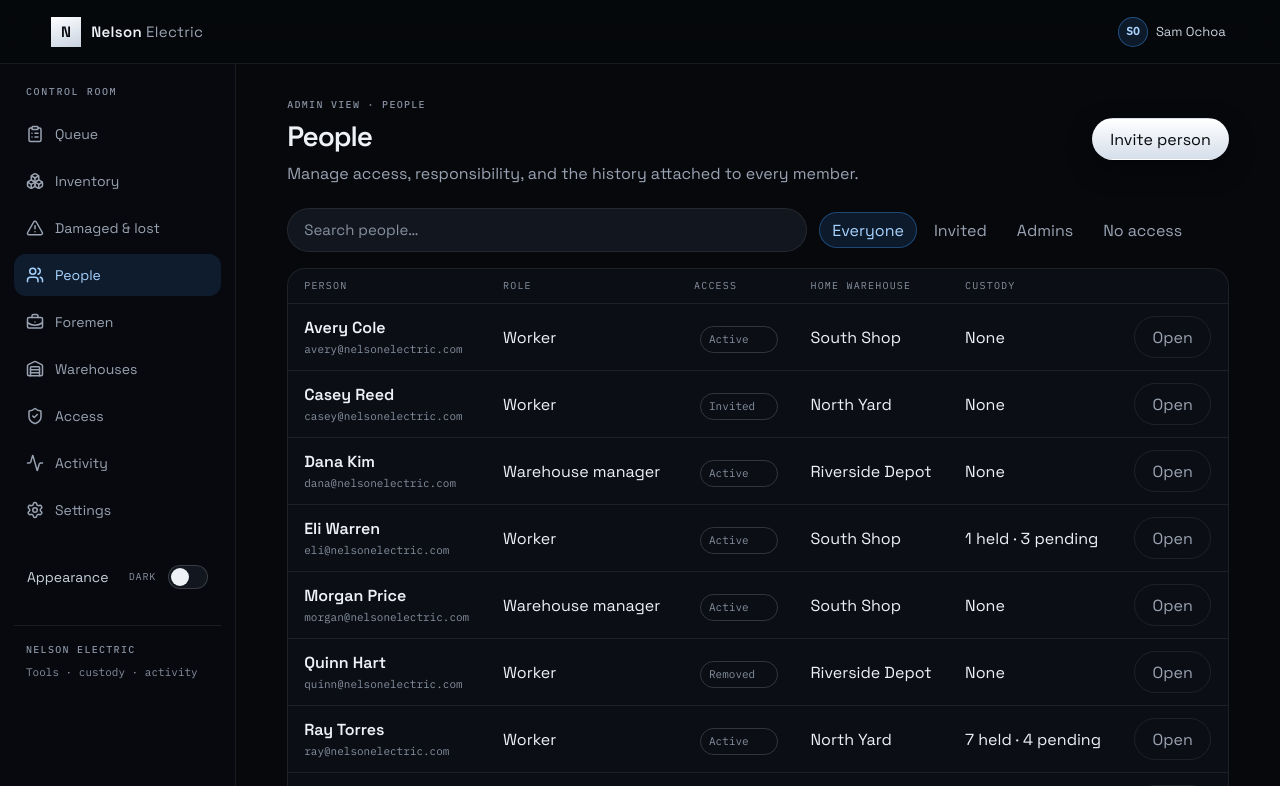
Scenario: admin command safety › preserves a selected role and error after a rejected role command
Click the link "Casey Reed". click: click(349, 395)
box: left=304, top=384, right=394, bottom=405
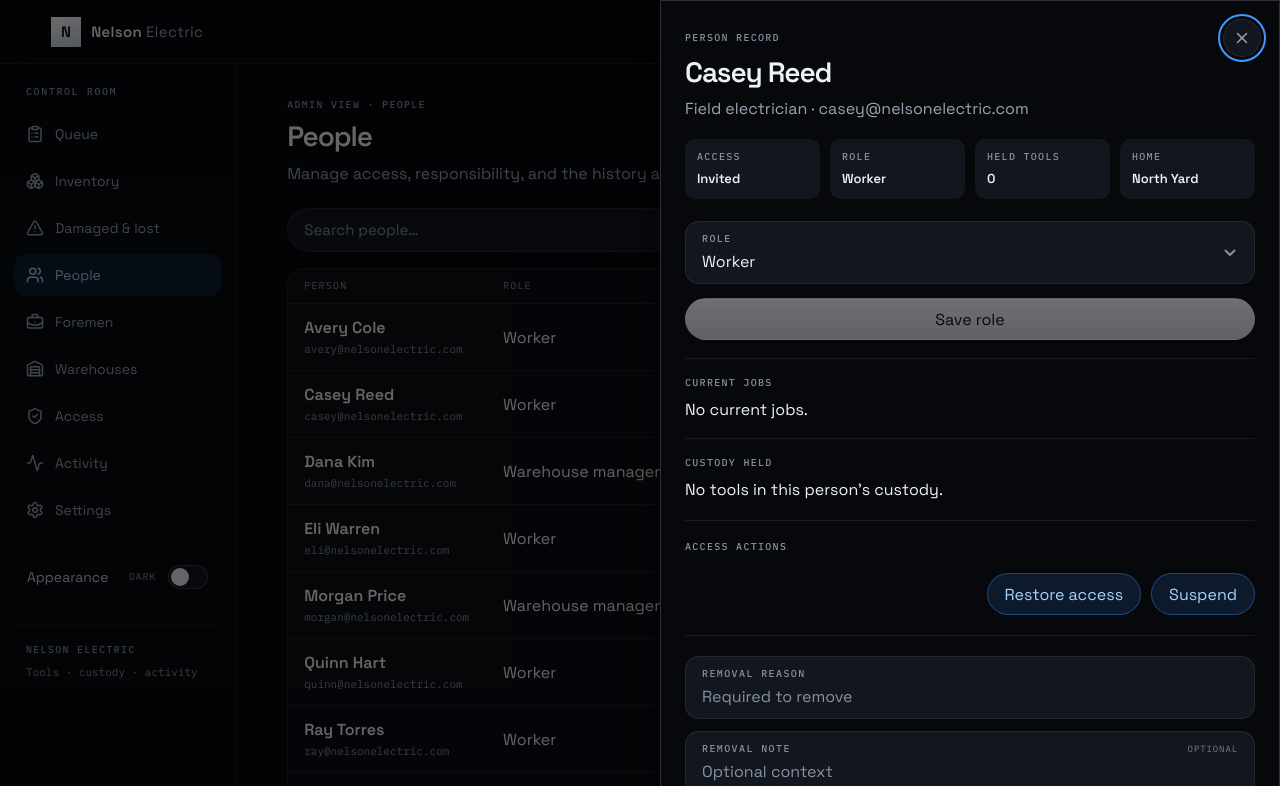
Click the dropdown named "Role". click: click(729, 262)
box: left=702, top=252, right=1238, bottom=271
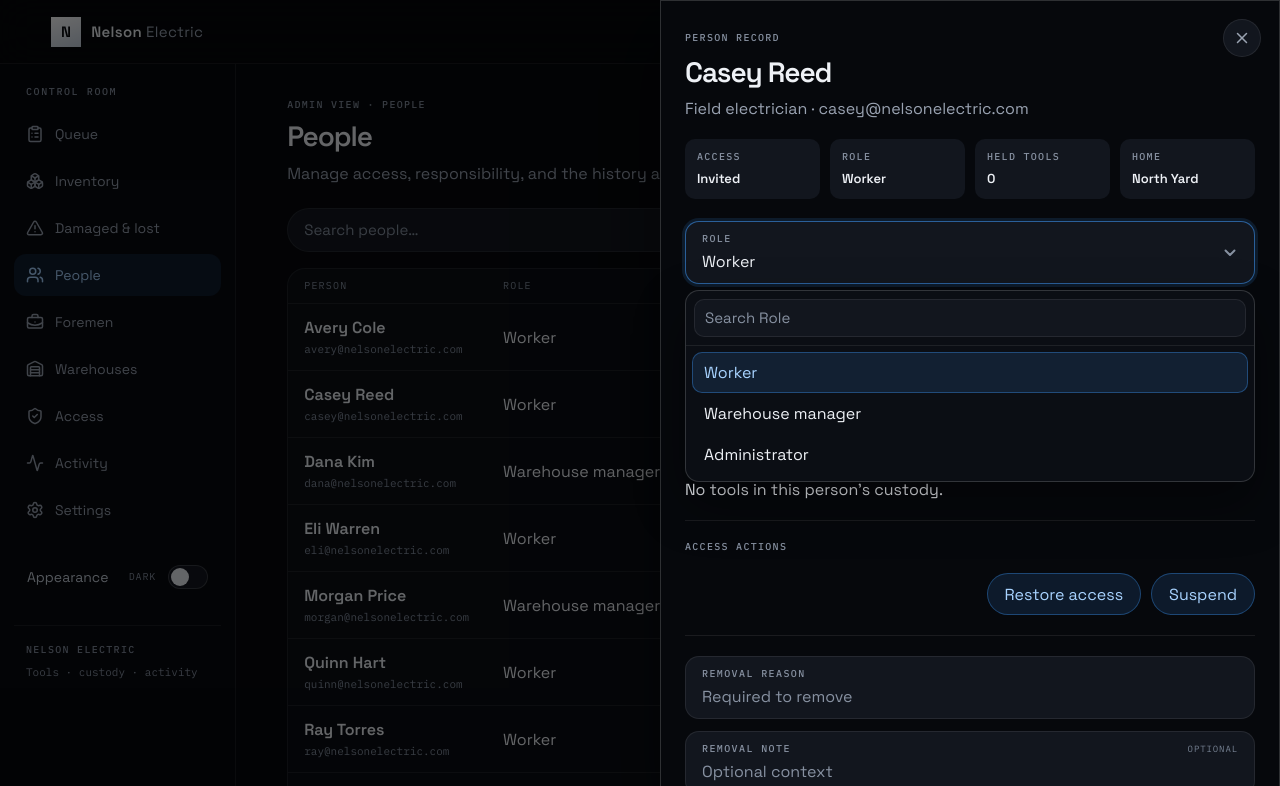
Click the option "Warehouse manager". click: click(783, 414)
box: left=704, top=403, right=861, bottom=424
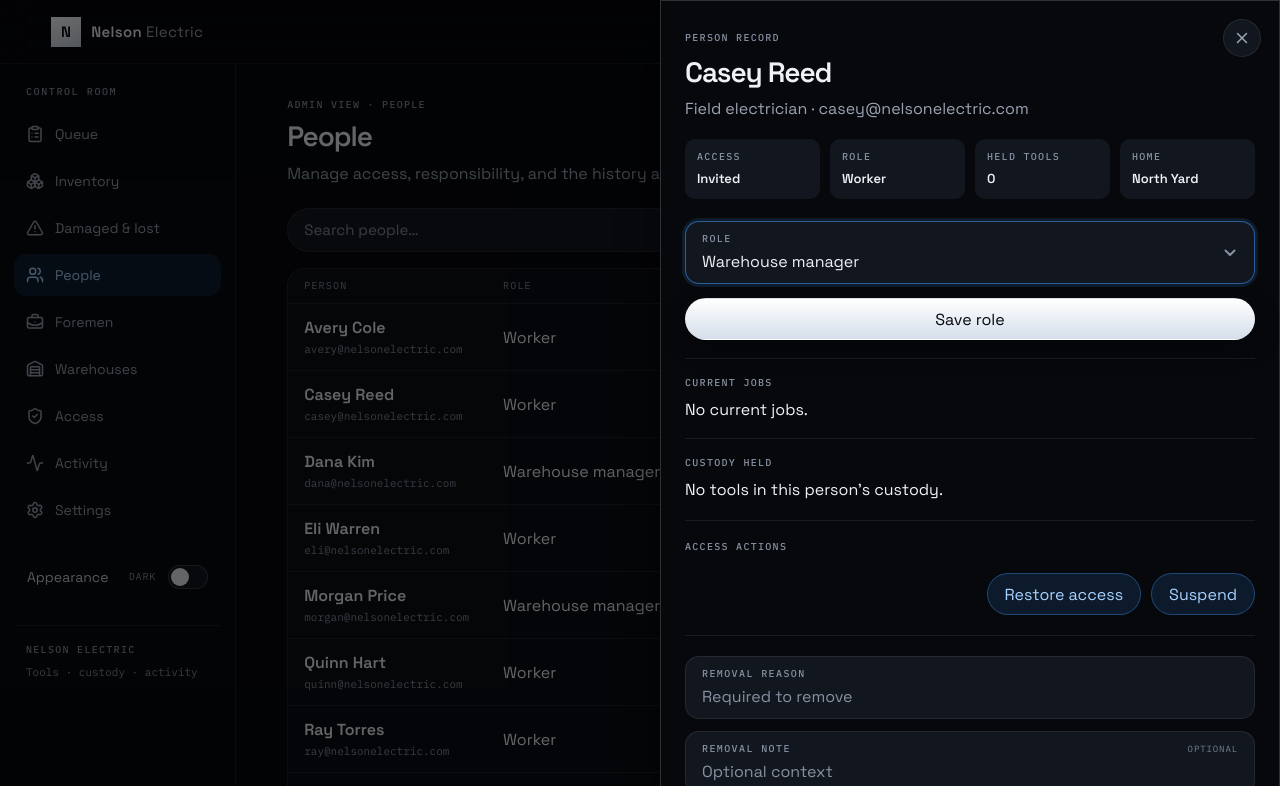
Click the button "Save role". click: click(970, 319)
box: left=685, top=298, right=1255, bottom=340
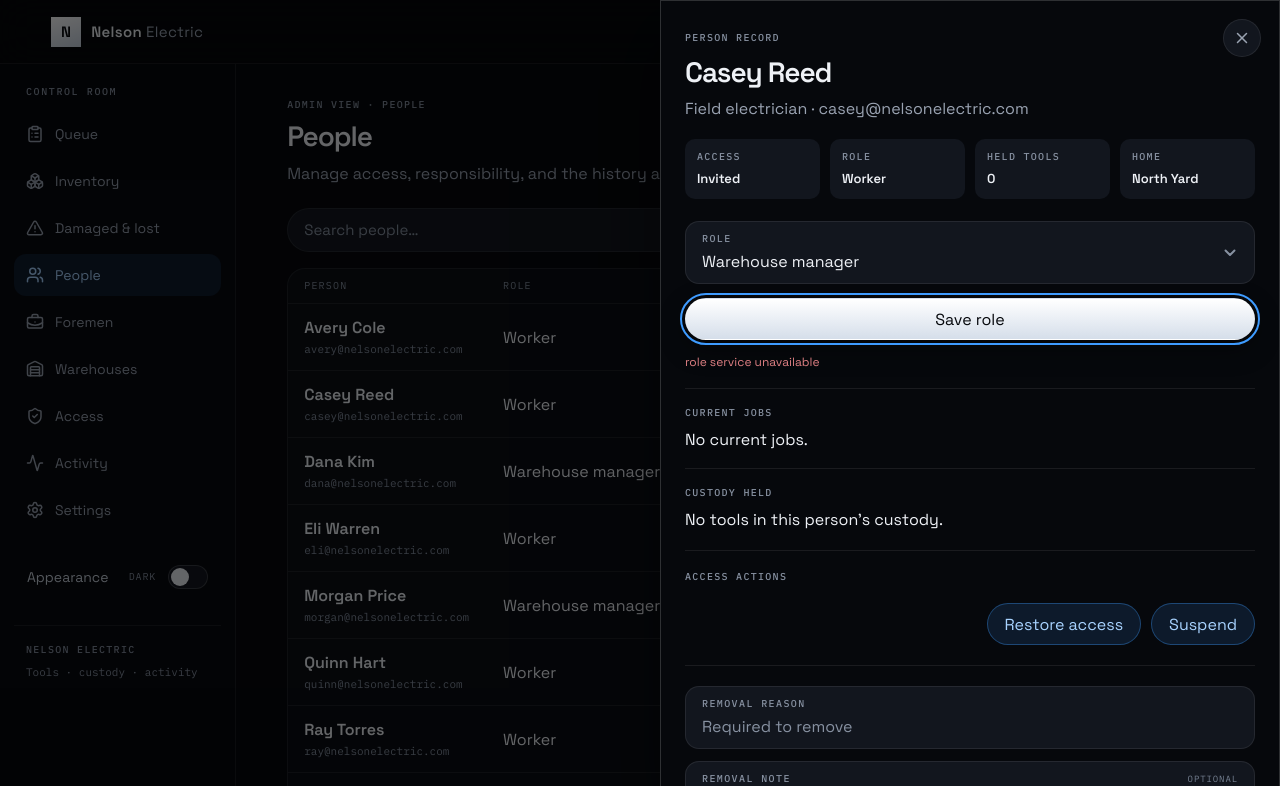
Expected: the dropdown named "Role" reads "Warehouse manager", left=702, top=252, right=1238, bottom=271
Expected: the text "role service unavailable" is shown, left=685, top=354, right=820, bottom=370
